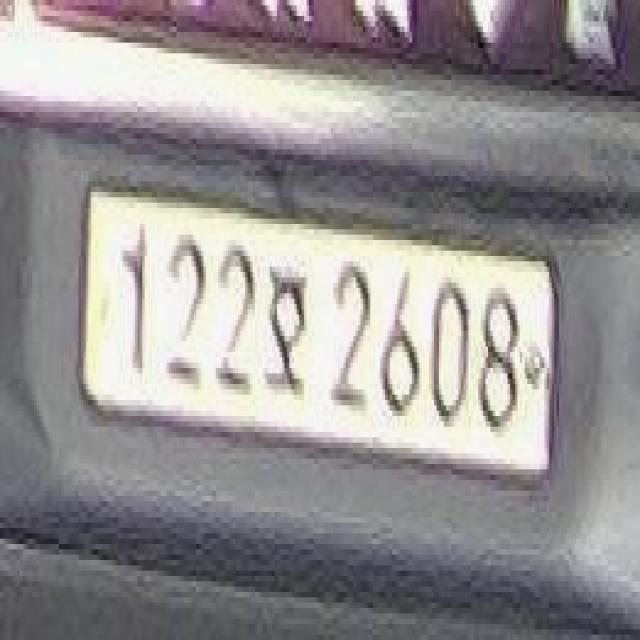illegal_plate: (85, 175, 555, 500)
